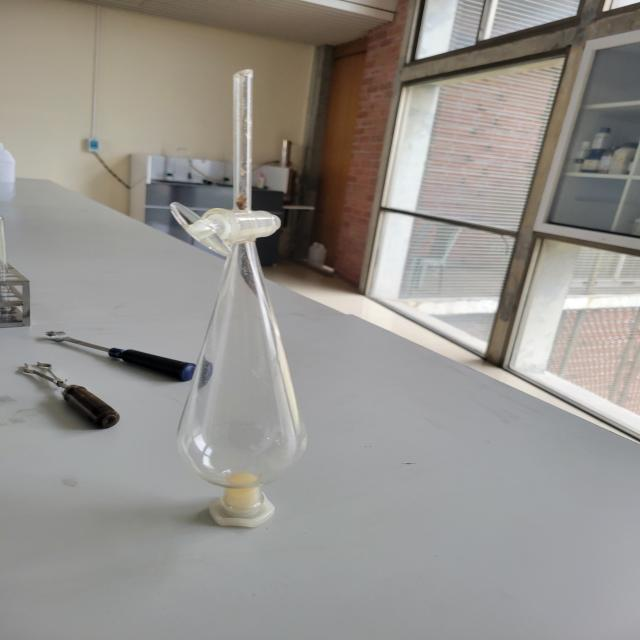Separating_Funnel: (119, 34, 370, 556)
